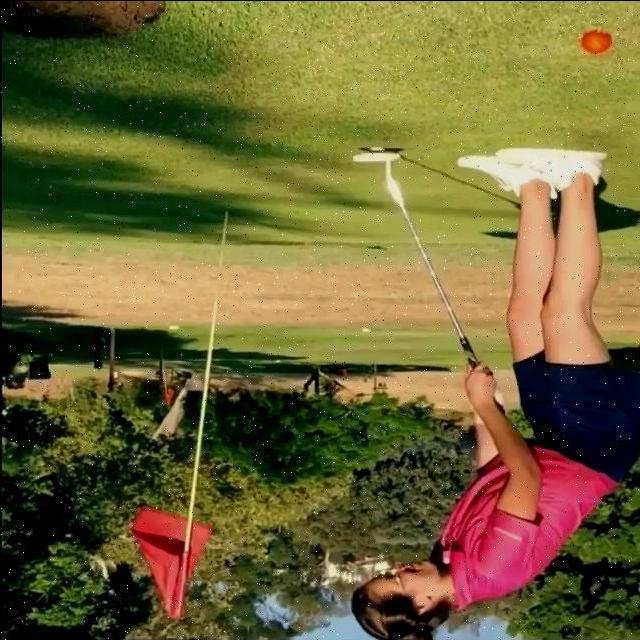ClubHandle: (351, 147, 499, 414)
ClubHead: (353, 142, 399, 161)
GolfBall: (579, 30, 616, 57)
